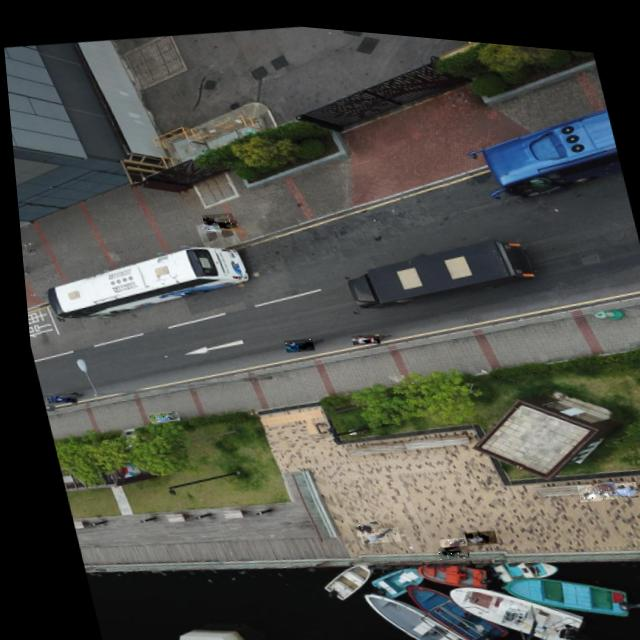Person: (349, 517, 392, 540), (455, 519, 489, 539), (427, 534, 461, 554), (198, 205, 233, 223), (277, 330, 309, 349), (429, 527, 460, 546), (199, 212, 235, 228), (141, 405, 173, 423), (39, 389, 71, 405), (568, 472, 593, 492), (605, 468, 631, 487), (344, 513, 371, 531), (345, 325, 375, 340), (586, 471, 609, 490), (17, 240, 33, 257)
